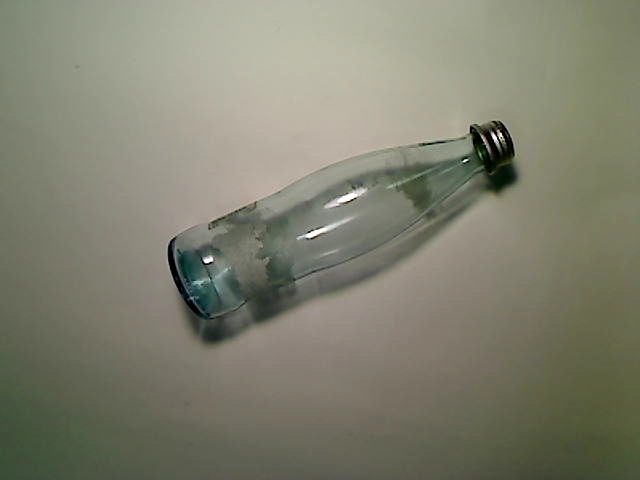bottle: (166, 118, 516, 321)
